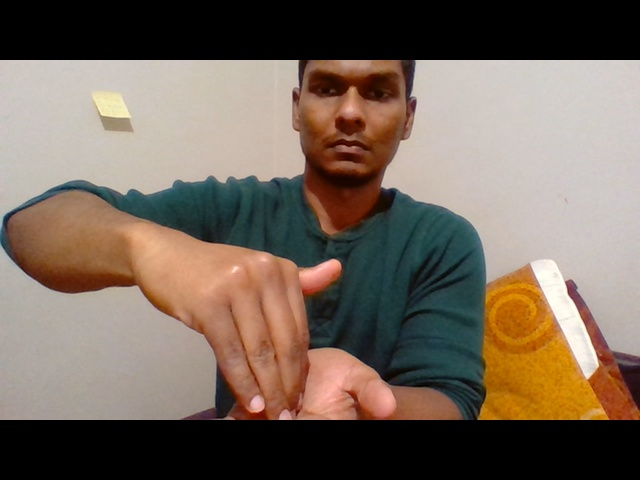ExcuseMe: (136, 230, 399, 421)
